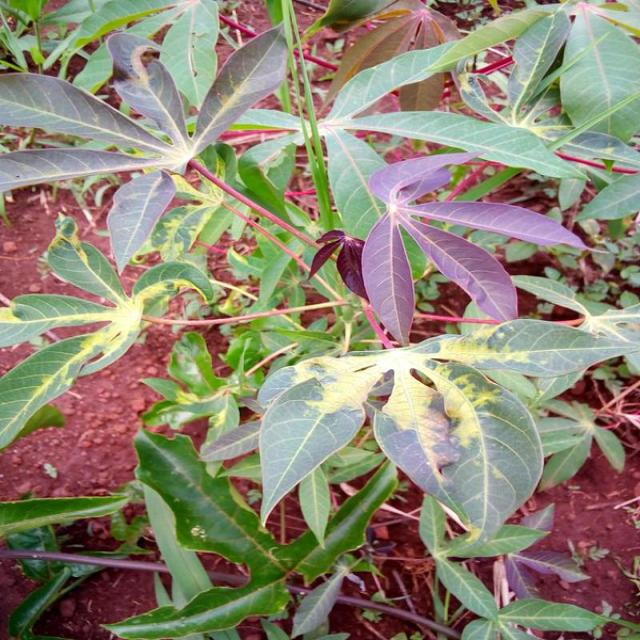cassava leaf: (372, 356, 544, 547)
